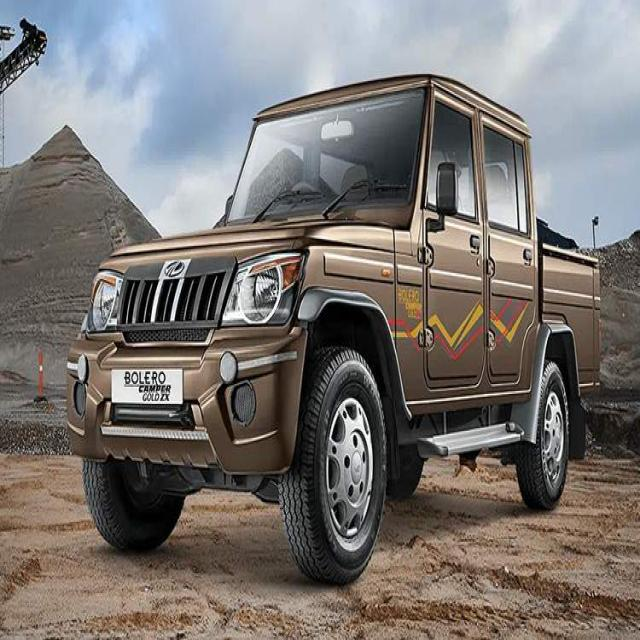light_vehicle: (72, 93, 604, 575)
